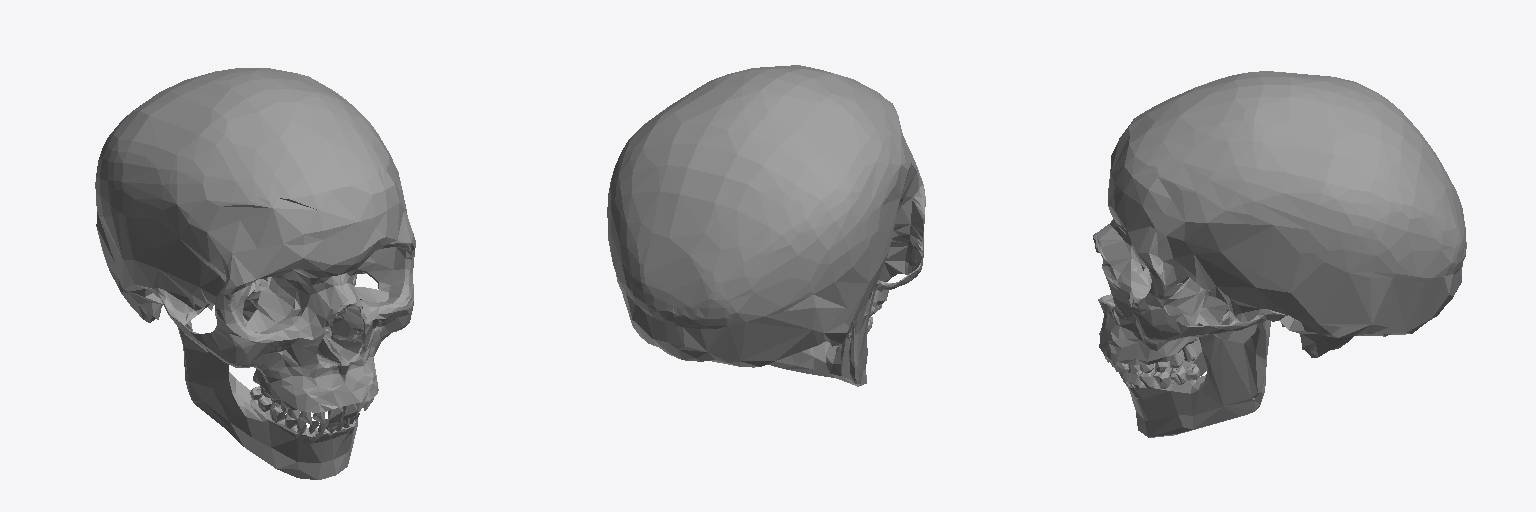
Rendered from Cabeza.obj.
3 views of the same model, side by side, from view 1: azimuth 30°, elevation 25°; view 2: azimuth 150°, elevation 25°; view 3: azimuth 270°, elevation 25° (orthographic).
Parts seen in each view (by area): view 1: Skull_Uperskull_SKULL, Skull_Lower_skull_skull2, Skull_Lower_skull_teeth1, Skull_Uperskull_teeth; view 2: Skull_Uperskull_SKULL, Skull_Lower_skull_skull2; view 3: Skull_Uperskull_SKULL, Skull_Lower_skull_skull2, Skull_Lower_skull_teeth1, Skull_Uperskull_teeth.
Part boxes in pixels (x1,y1,x2,y2): Skull_Uperskull_SKULL: (95, 68, 415, 412); Skull_Lower_skull_skull2: (177, 274, 357, 479); Skull_Lower_skull_teeth1: (250, 386, 359, 434); Skull_Uperskull_teeth: (253, 371, 373, 424); Skull_Uperskull_SKULL: (607, 65, 925, 367); Skull_Lower_skull_skull2: (767, 290, 875, 386); Skull_Uperskull_SKULL: (1093, 71, 1466, 364); Skull_Lower_skull_skull2: (1123, 311, 1270, 437); Skull_Lower_skull_teeth1: (1119, 337, 1199, 389); Skull_Uperskull_teeth: (1104, 344, 1197, 373).
Bounding box in the file's own units: 0.3973 × 0.5356 × 0.53.